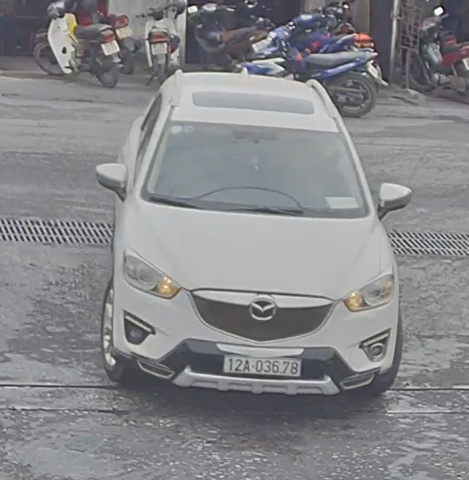vehicle plate: (224, 349, 303, 379)
